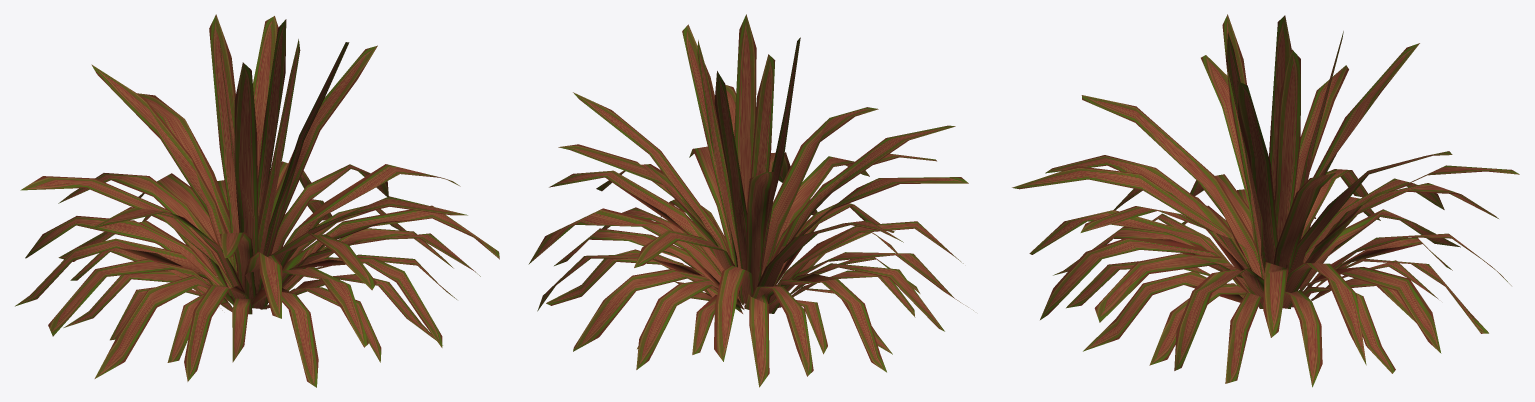
File: phormiumTenax3.fbx
3 renders of one model, left to right at view 1: azimuth 30°, elevation 25°; view 2: azimuth 150°, elevation 25°; view 3: azimuth 270°, elevation 25°, orthographic. The views are drawn at different scales.
Visible parts, largest first — view 1: Phormium_tenax_A003; view 2: Phormium_tenax_A003; view 3: Phormium_tenax_A003.
Part boxes in pixels (box(x1,y1,x2,y2)): Phormium_tenax_A003: box(15, 14, 499, 387); Phormium_tenax_A003: box(528, 14, 973, 387); Phormium_tenax_A003: box(1012, 14, 1519, 387).
Size of the model in its own units: 1153 by 740 by 1209.
Materials: 1 (1 with a texture image).
